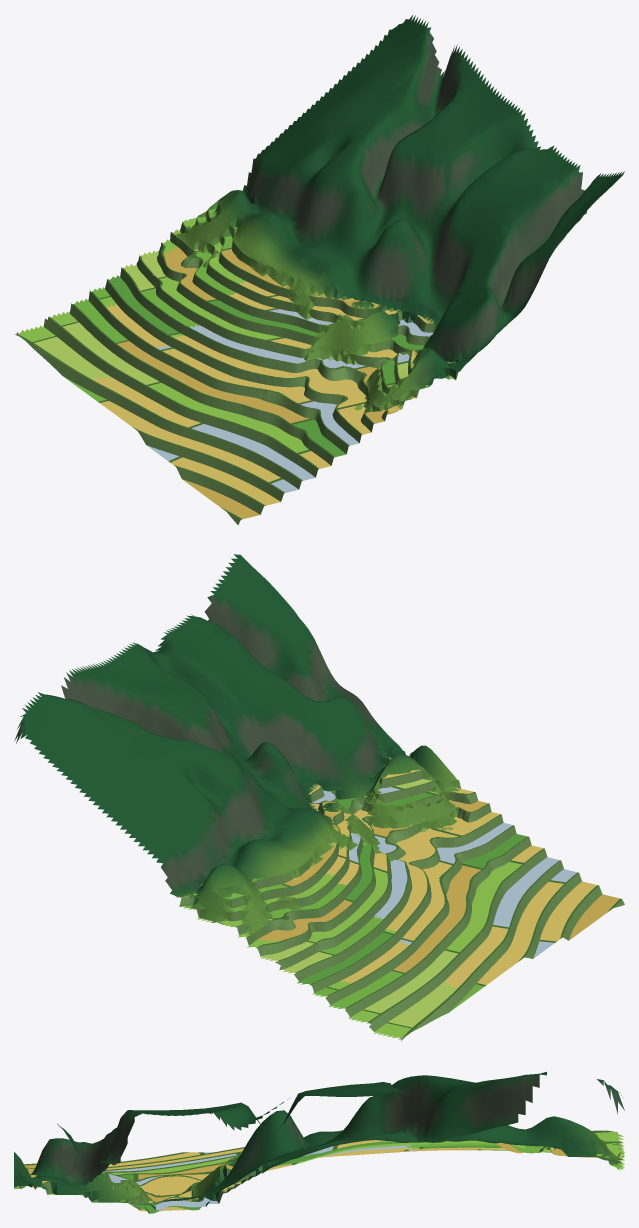
File: payo_land_xm1_y2_lod1.glb
The picture shows the model from 3 angles, top to bottom: view 1: azimuth 30°, elevation 25°; view 2: azimuth 150°, elevation 25°; view 3: azimuth 270°, elevation 25°; orthographic projection. The views are drawn at different scales.
Parts seen in each view (by area): view 1: payo_land_xm1_y2; view 2: payo_land_xm1_y2; view 3: payo_land_xm1_y2.
Part boxes in pixels (box(x1,y1,x2,y2)): payo_land_xm1_y2: box(15, 15, 624, 525); payo_land_xm1_y2: box(14, 554, 624, 1041); payo_land_xm1_y2: box(14, 1071, 624, 1213).
Size of the model in its own units: 258 by 167 by 258.
